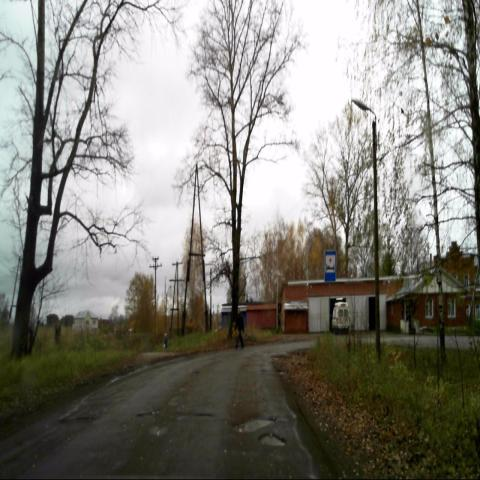7_2: (324, 249, 336, 282)
